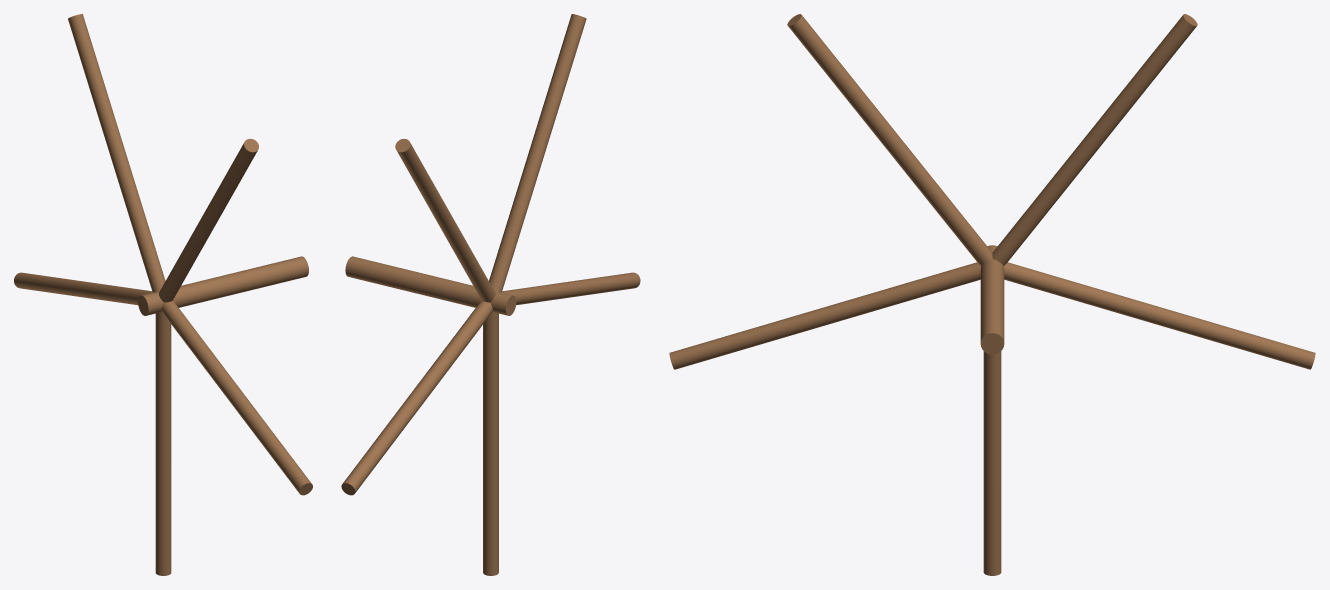
The model's file is FanBase.obj.
3 renders of one model, left to right at view 1: azimuth 30°, elevation 25°; view 2: azimuth 150°, elevation 25°; view 3: azimuth 270°, elevation 25°, orthographic. The views are drawn at different scales.
Parts seen in each view (by area): view 1: Fan1 AirShipBasket1 FanWingPole1 FanWing3, Fan1 AirShipBasket1 FanWingPole1 FanWing1, Fan1 AirShipBasket1 FanWingPole1 FanWing5, Fan1 AirShipBasket1 FanAxis1, FanWingPole1 FanWing4 Fan1 AirShipBasket1, Fan1 AirShipBasket1 FanWingPole1 FanWing2; view 2: FanWingPole1 FanWing4 Fan1 AirShipBasket1, Fan1 AirShipBasket1 FanWingPole1 FanWing1, Fan1 AirShipBasket1 FanWingPole1 FanWing2, Fan1 AirShipBasket1 FanAxis1, Fan1 AirShipBasket1 FanWingPole1 FanWing3, Fan1 AirShipBasket1 FanWingPole1 FanWing5; view 3: Fan1 AirShipBasket1 FanWingPole1 FanWing5, Fan1 AirShipBasket1 FanWingPole1 FanWing2, Fan1 AirShipBasket1 FanWingPole1 FanWing3, FanWingPole1 FanWing4 Fan1 AirShipBasket1, Fan1 AirShipBasket1 FanWingPole1 FanWing1, Fan1 AirShipBasket1 FanAxis1.
Boxes of the visible parts, bbox=[...] form: Fan1 AirShipBasket1 FanWingPole1 FanWing3: bbox=[68, 14, 165, 292]; Fan1 AirShipBasket1 FanWingPole1 FanWing1: bbox=[155, 312, 171, 575]; Fan1 AirShipBasket1 FanWingPole1 FanWing5: bbox=[161, 300, 312, 495]; Fan1 AirShipBasket1 FanAxis1: bbox=[138, 256, 308, 315]; FanWingPole1 FanWing4 Fan1 AirShipBasket1: bbox=[159, 138, 258, 302]; Fan1 AirShipBasket1 FanWingPole1 FanWing2: bbox=[14, 272, 152, 305]; FanWingPole1 FanWing4 Fan1 AirShipBasket1: bbox=[489, 14, 586, 292]; Fan1 AirShipBasket1 FanWingPole1 FanWing1: bbox=[483, 312, 498, 575]; Fan1 AirShipBasket1 FanWingPole1 FanWing2: bbox=[341, 300, 492, 495]; Fan1 AirShipBasket1 FanAxis1: bbox=[345, 256, 516, 315]; Fan1 AirShipBasket1 FanWingPole1 FanWing3: bbox=[395, 138, 495, 302]; Fan1 AirShipBasket1 FanWingPole1 FanWing5: bbox=[502, 272, 640, 305]; Fan1 AirShipBasket1 FanWingPole1 FanWing5: bbox=[669, 262, 980, 369]; Fan1 AirShipBasket1 FanWingPole1 FanWing2: bbox=[1004, 262, 1315, 369]; Fan1 AirShipBasket1 FanWingPole1 FanWing3: bbox=[992, 14, 1197, 265]; FanWingPole1 FanWing4 Fan1 AirShipBasket1: bbox=[787, 14, 992, 265]; Fan1 AirShipBasket1 FanWingPole1 FanWing1: bbox=[983, 351, 1001, 575]; Fan1 AirShipBasket1 FanAxis1: bbox=[980, 245, 1004, 354].
Size of the model in its own units: 7 by 20.67 by 21.74.
